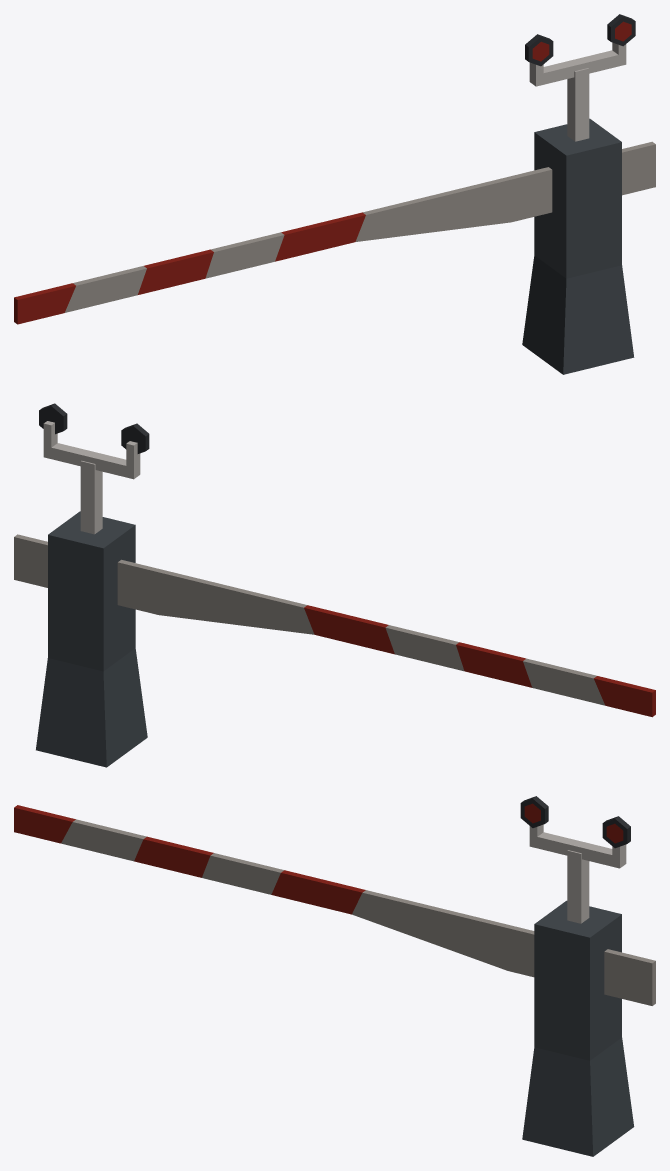
Rendered from Barrier_1.fbx.
3 views of the same model, one above another, from view 1: azimuth 30°, elevation 25°; view 2: azimuth 150°, elevation 25°; view 3: azimuth 330°, elevation 25° (orthographic).
Parts seen in each view (by area): view 1: Barrier_1; view 2: Barrier_1; view 3: Barrier_1.
Part boxes in pixels (x1=…): Barrier_1: x1=14, y1=14, x2=655, y2=374; Barrier_1: x1=14, y1=403, x2=655, y2=767; Barrier_1: x1=14, y1=796, x2=655, y2=1156.
Size of the model in its own units: 275 by 135 by 30.61.
